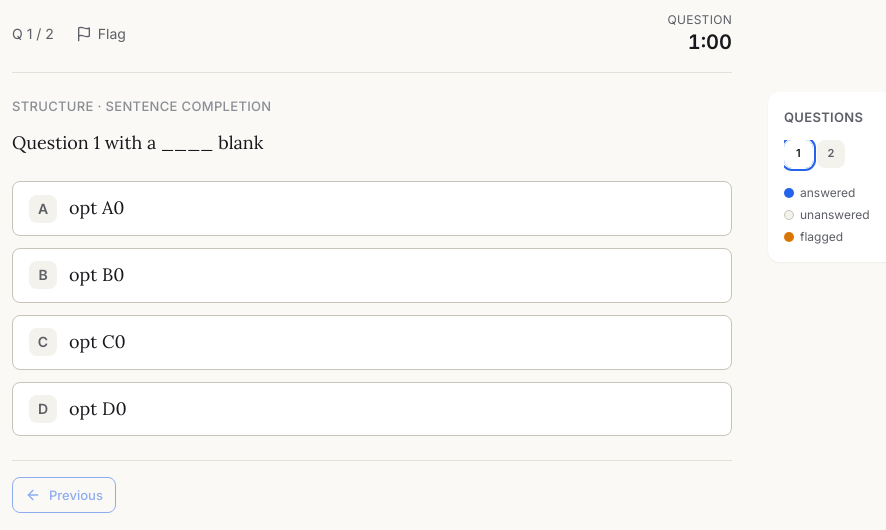
QuizPerQuestion › auto-advances to the next question when an option is selected
Expected: the text "Q 1 / 2" is shown, [12, 24, 54, 44]
Click the option "A opt A0": (97, 208) [12, 181, 732, 236]
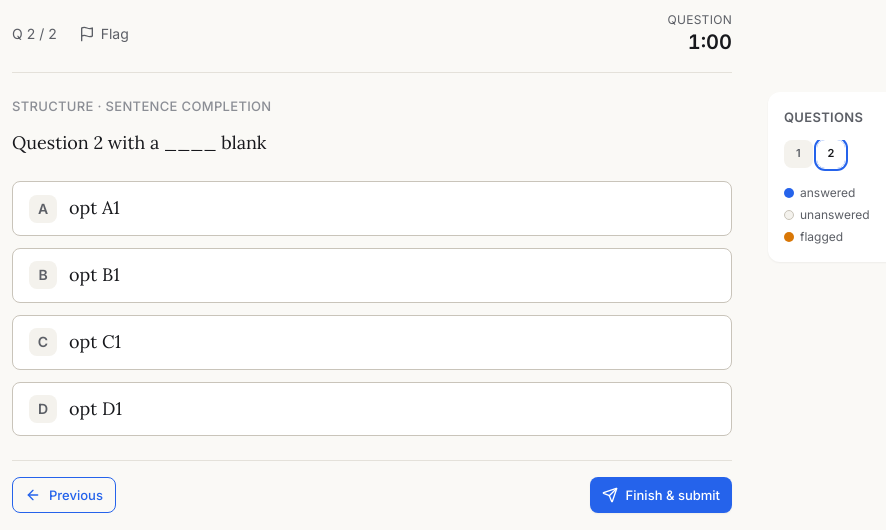
Expected: the text "Q 2 / 2" is shown, [12, 24, 57, 44]
